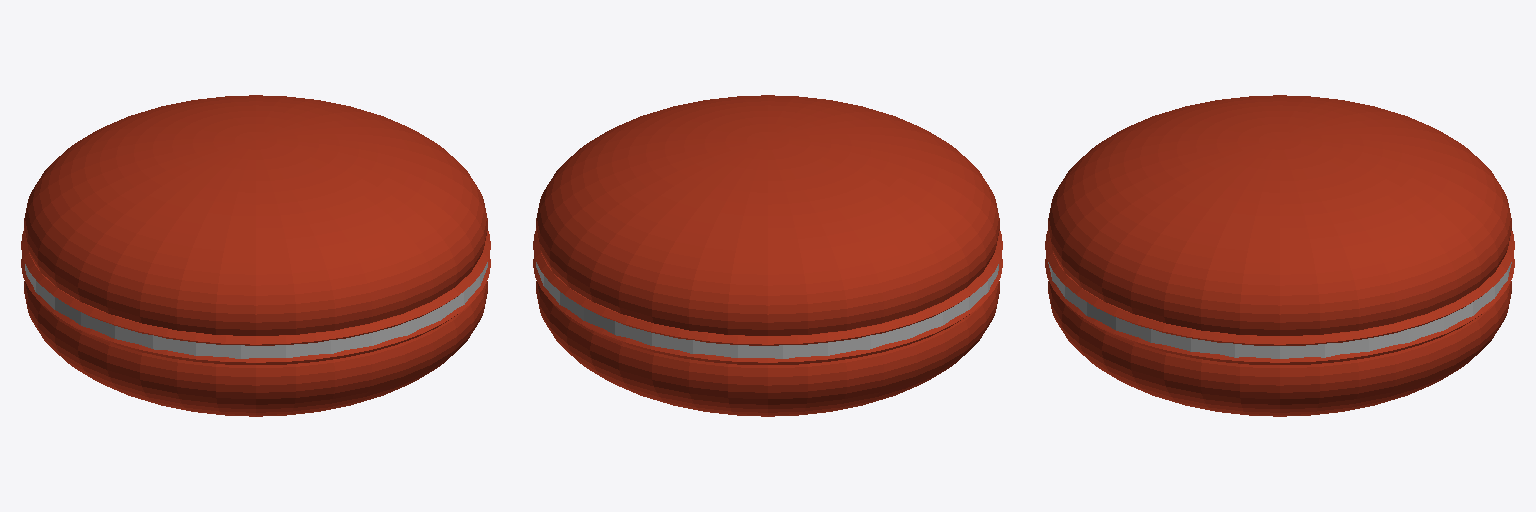
The model's file is makalong4.obj.
3 renders of one model, left to right at view 1: azimuth 30°, elevation 25°; view 2: azimuth 150°, elevation 25°; view 3: azimuth 270°, elevation 25°, orthographic.
Visible parts, largest first — view 1: Sphere_Sphere.001, Sphere.001_Sphere.002, Cylinder, Torus.001, Torus; view 2: Sphere_Sphere.001, Sphere.001_Sphere.002, Cylinder, Torus.001, Torus; view 3: Sphere_Sphere.001, Sphere.001_Sphere.002, Cylinder, Torus.001, Torus.
Part boxes in pixels (left/top/right/bottom): Sphere_Sphere.001: left=24, top=95, right=487, bottom=335; Sphere.001_Sphere.002: left=24, top=281, right=487, bottom=416; Cylinder: left=25, top=262, right=487, bottom=358; Torus.001: left=21, top=231, right=490, bottom=345; Torus: left=21, top=256, right=490, bottom=364; Sphere_Sphere.001: left=536, top=95, right=999, bottom=335; Sphere.001_Sphere.002: left=536, top=281, right=999, bottom=416; Cylinder: left=536, top=262, right=998, bottom=358; Torus.001: left=533, top=231, right=1002, bottom=345; Torus: left=533, top=256, right=1002, bottom=364; Sphere_Sphere.001: left=1048, top=95, right=1511, bottom=335; Sphere.001_Sphere.002: left=1048, top=281, right=1511, bottom=416; Cylinder: left=1048, top=262, right=1511, bottom=358; Torus.001: left=1045, top=231, right=1514, bottom=345; Torus: left=1045, top=256, right=1514, bottom=364.
Size of the model in its own units: 2.02 by 1.1 by 2.02.